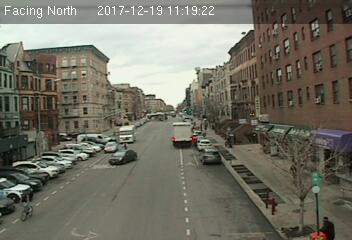bicycle: (18, 192, 36, 223)
car: (108, 149, 137, 164), (203, 149, 220, 162), (103, 142, 116, 152)
truck: (171, 121, 193, 146), (119, 126, 135, 142)
